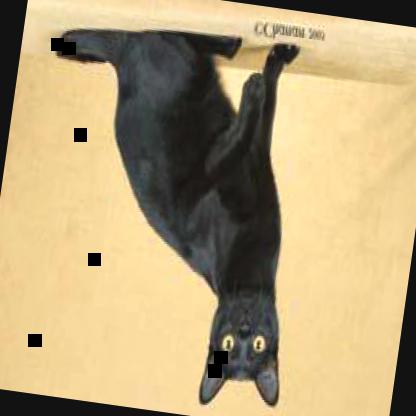cat: (9, 10, 329, 415)
